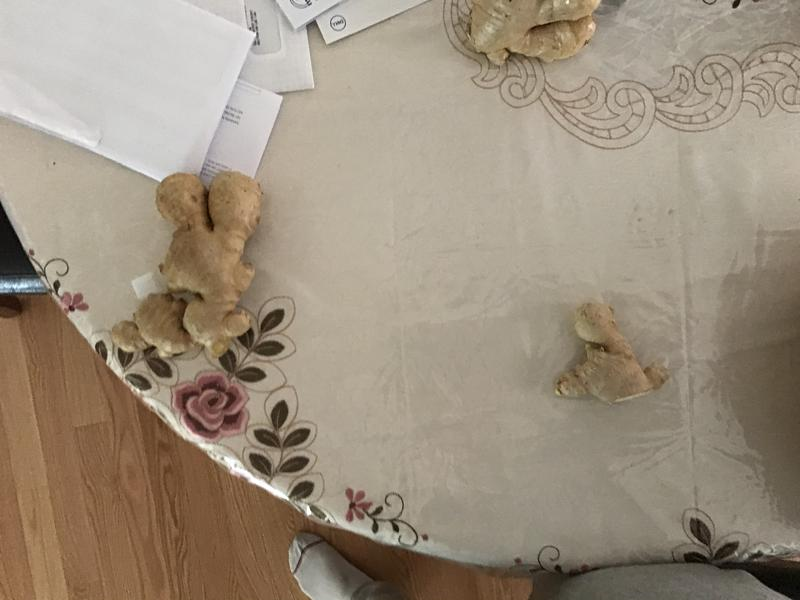ginger: (100, 161, 278, 365), (542, 295, 674, 419), (460, 1, 609, 73)
